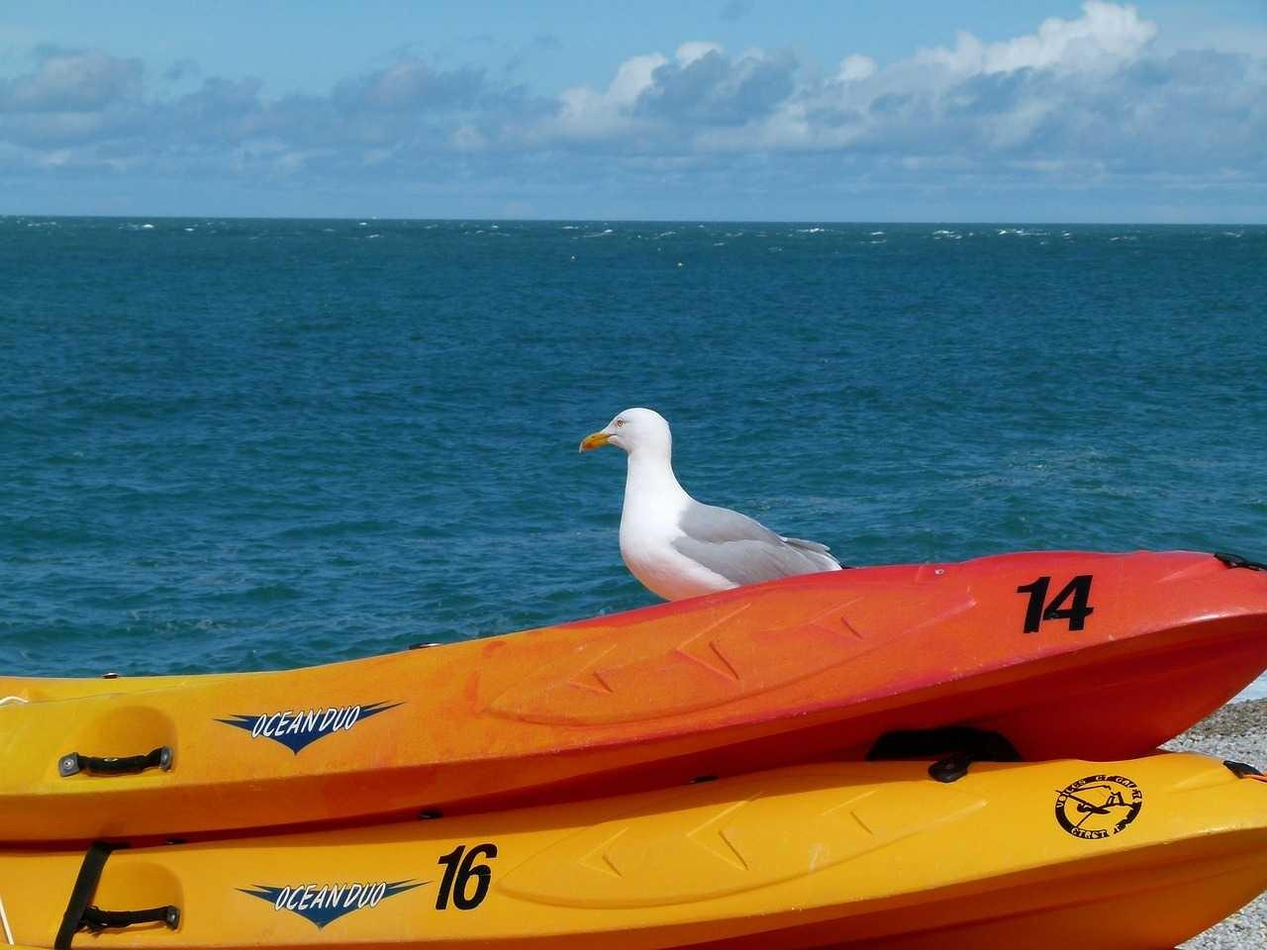kayak: (2, 543, 1263, 947)
